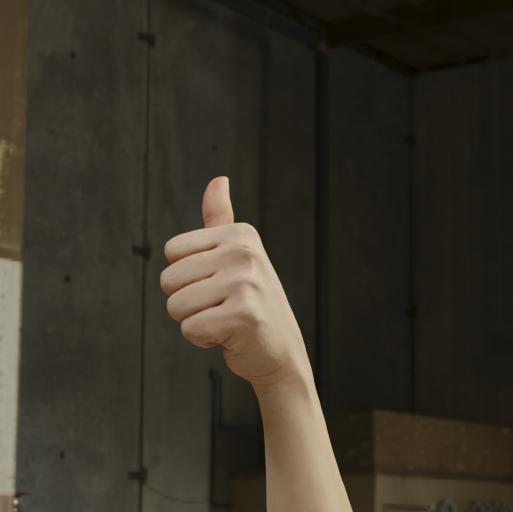thumbs-up: (157, 167, 317, 392)
